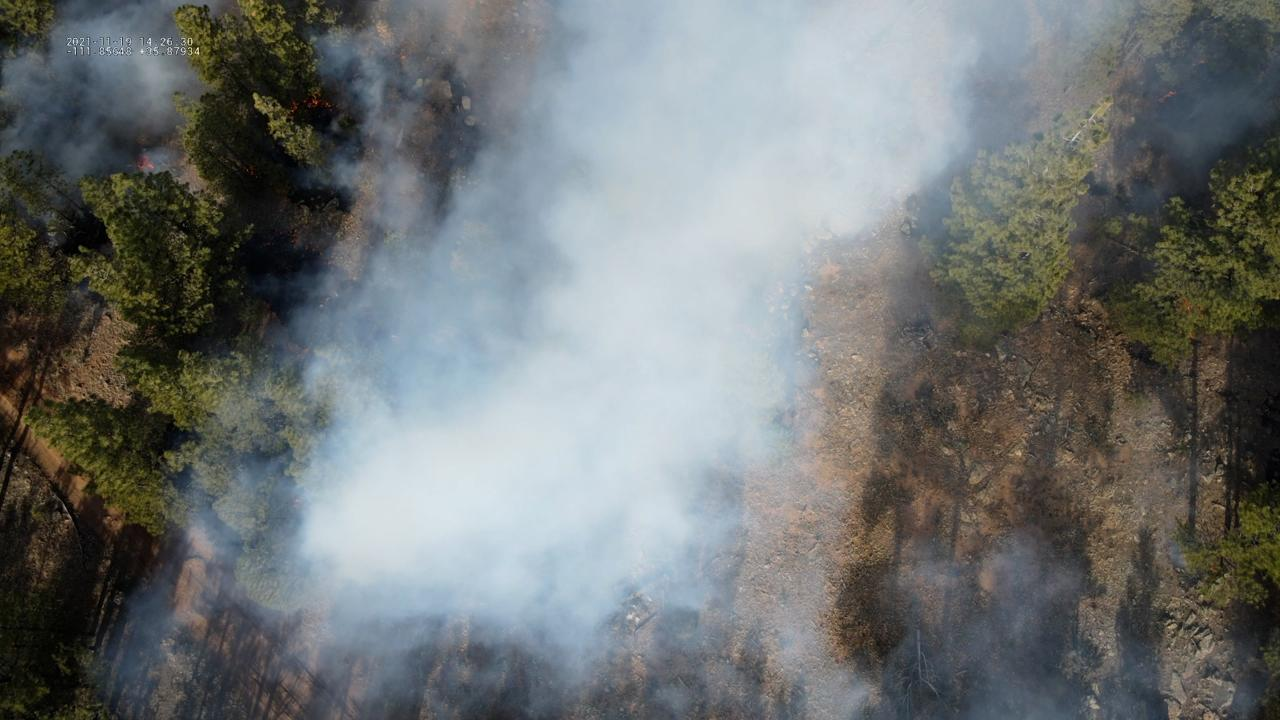fire: (286, 92, 342, 115), (134, 151, 157, 173), (1158, 88, 1177, 103)
smoke: (83, 0, 1280, 720), (0, 0, 187, 198)
